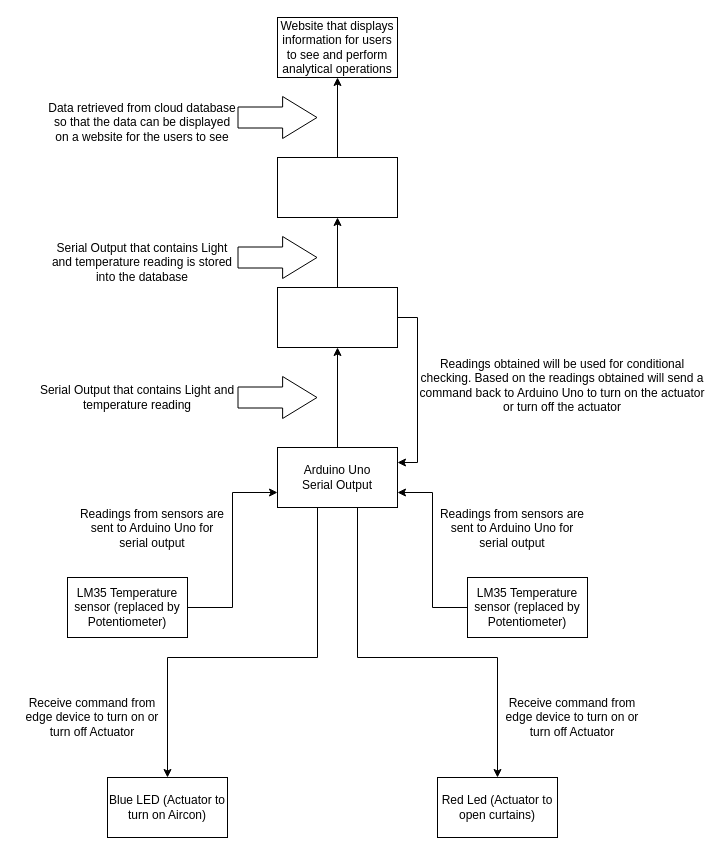
Some shapes in this 724 by 855 pixel diagram are drawn without their labels. The box of each missing label's shape, as (x1, y1, x2, y2) in pixels:
AWS Cloud Platform: (276, 156, 398, 218)
Python script: (276, 286, 398, 348)
